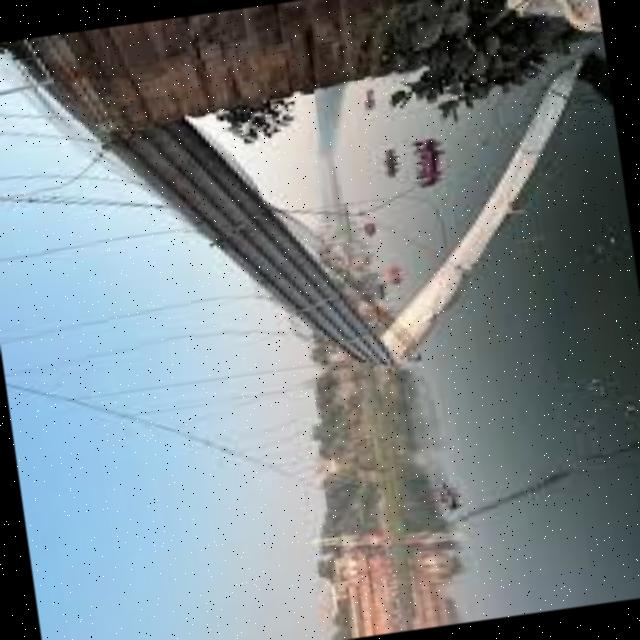bridge collapse: (69, 34, 640, 640)
